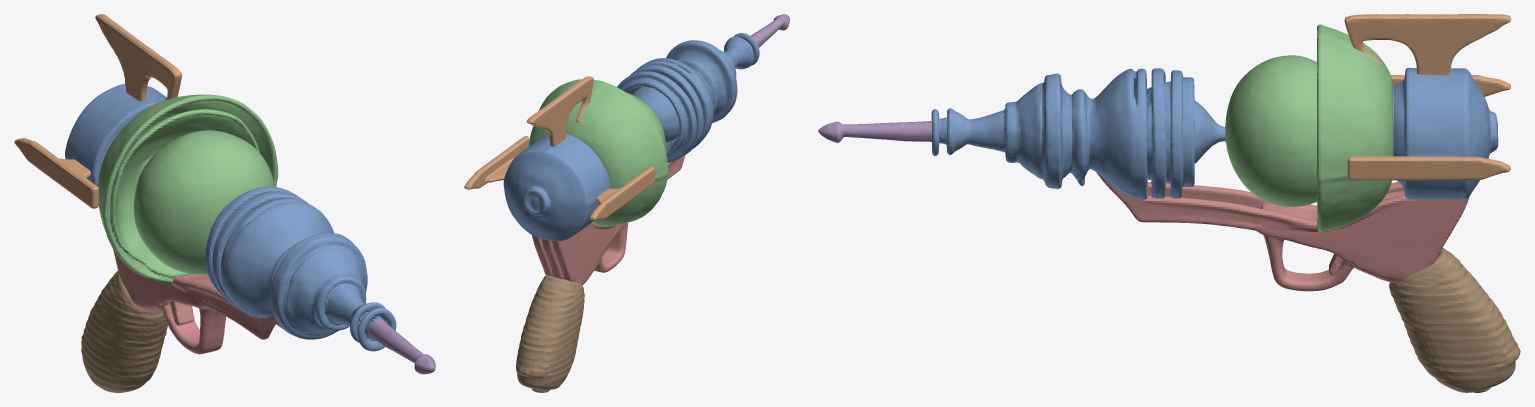
The model's file is retro_raygun_2.glb.
3 views of the same model, side by side, from view 1: azimuth 30°, elevation 25°; view 2: azimuth 150°, elevation 25°; view 3: azimuth 270°, elevation 25° (orthographic). The views are drawn at different scales.
Visible parts, largest first — view 1: transparent_energy_bubble_chamber, Metal_raygun_body, power_cell_grip, trigger_mechanism, rear_cooling_fins, barrel_emitter_tip; view 2: Metal_raygun_body, transparent_energy_bubble_chamber, power_cell_grip, rear_cooling_fins, trigger_mechanism, barrel_emitter_tip; view 3: Metal_raygun_body, transparent_energy_bubble_chamber, trigger_mechanism, power_cell_grip, rear_cooling_fins, barrel_emitter_tip.
Part boxes in pixels (left/top/right/bottom): transparent_energy_bubble_chamber: left=97, top=94, right=278, bottom=283; Metal_raygun_body: left=65, top=84, right=396, bottom=351; power_cell_grip: left=81, top=270, right=167, bottom=392; trigger_mechanism: left=113, top=250, right=283, bottom=354; rear_cooling_fins: left=14, top=14, right=181, bottom=208; barrel_emitter_tip: left=368, top=319, right=435, bottom=374; Metal_raygun_body: left=503, top=33, right=759, bottom=241; transparent_energy_bubble_chamber: left=528, top=79, right=668, bottom=226; power_cell_grip: left=516, top=275, right=584, bottom=392; rear_cooling_fins: left=464, top=76, right=654, bottom=220; trigger_mechanism: left=532, top=155, right=685, bottom=285; barrel_emitter_tip: left=750, top=14, right=789, bottom=51; Metal_raygun_body: left=931, top=67, right=1498, bottom=199; transparent_energy_bubble_chamber: left=1213, top=24, right=1393, bottom=231; trigger_mechanism: left=1096, top=172, right=1469, bottom=291; power_cell_grip: left=1389, top=248, right=1520, bottom=392; rear_cooling_fins: left=1344, top=14, right=1511, bottom=180; barrel_emitter_tip: left=818, top=120, right=931, bottom=142.
Bounding box in the file's own units: 0.5623 × 1.11 × 1.89.
